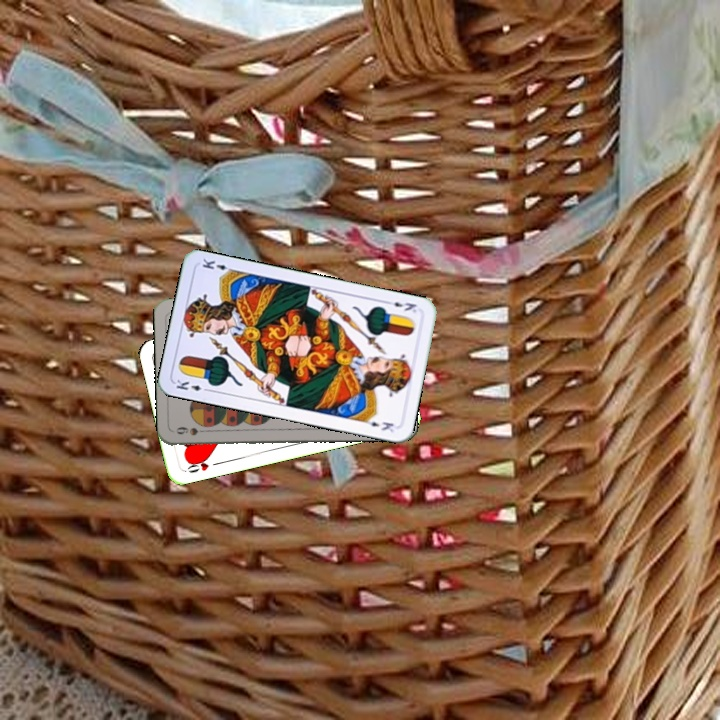EK: (172, 375, 212, 394), (382, 297, 419, 315)
HO: (183, 454, 221, 475)
S9: (172, 423, 212, 438)
